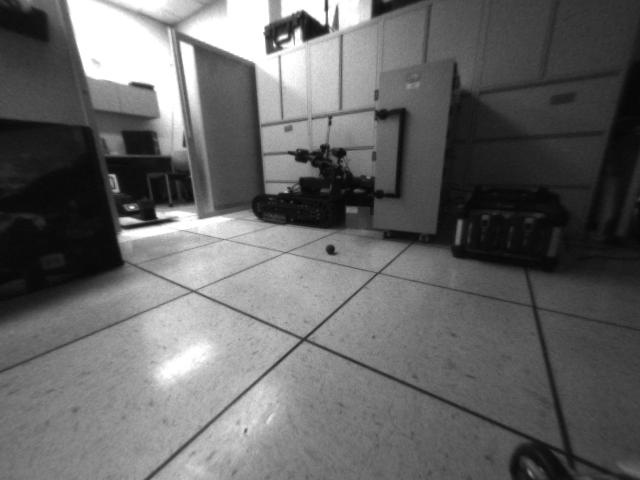dogtoy: (323, 240, 344, 259)
